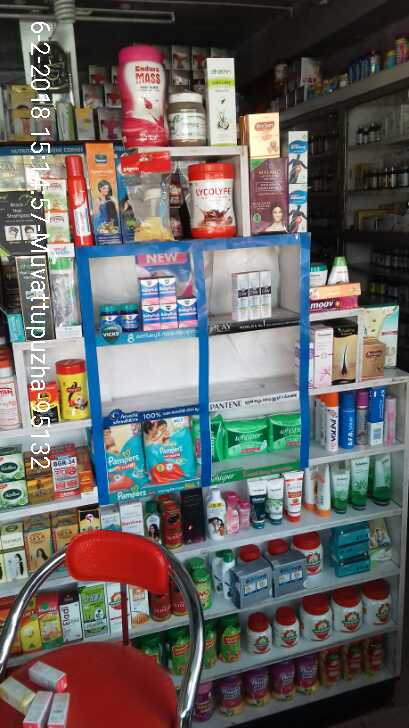vicks: (99, 272, 200, 334)
